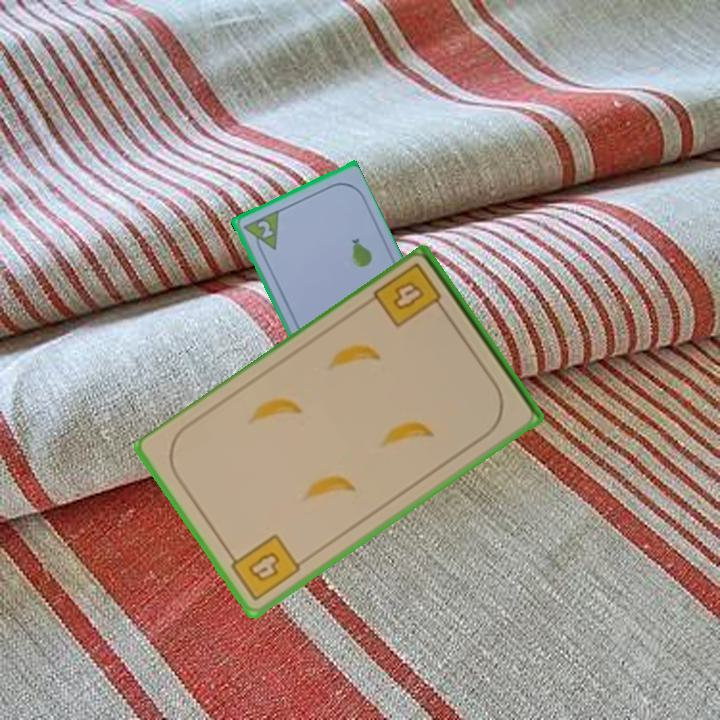2p: (253, 217, 276, 241)
4b: (224, 530, 304, 604), (370, 259, 450, 331)
